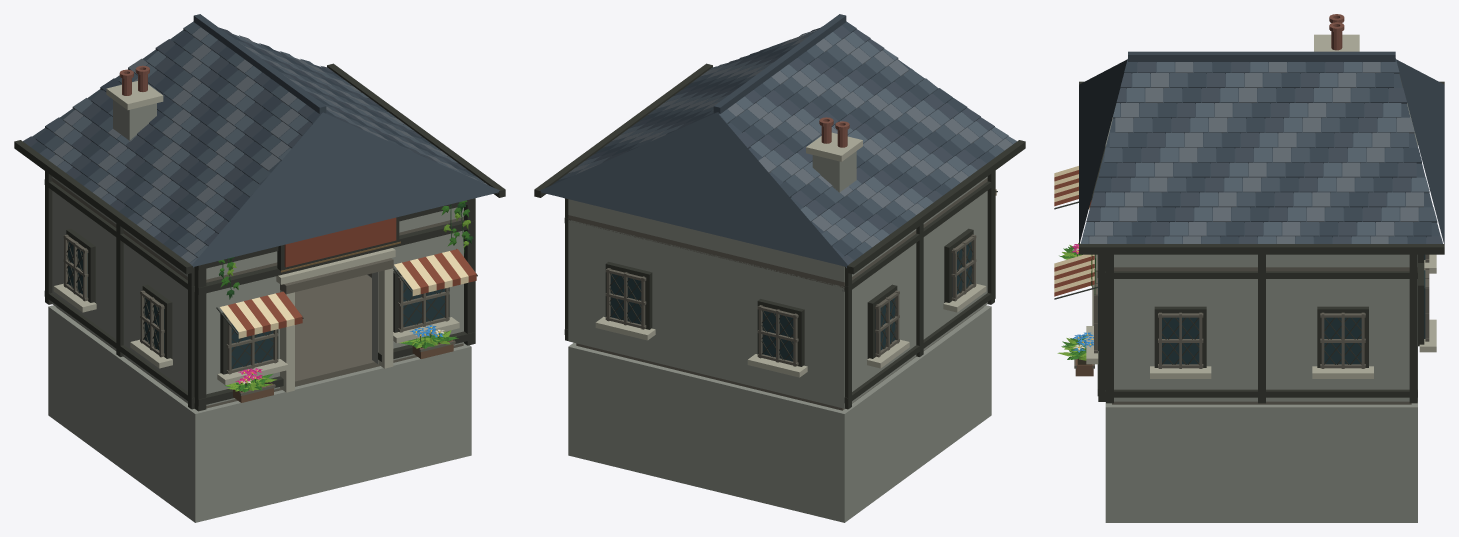
The model's file is village_pottery.glb.
3 renders of one model, left to right at view 1: azimuth 30°, elevation 25°; view 2: azimuth 150°, elevation 25°; view 3: azimuth 270°, elevation 25°, orthographic. The views are drawn at different scales.
Visible parts, largest first — view 1: village_pottery; view 2: village_pottery; view 3: village_pottery.
Part boxes in pixels (x1,y1,x2,y2): village_pottery: (14,14,505,522); village_pottery: (534,14,1025,522); village_pottery: (1054,14,1444,522).
Size of the model in its own units: 8.78 by 9.84 by 8.75.
